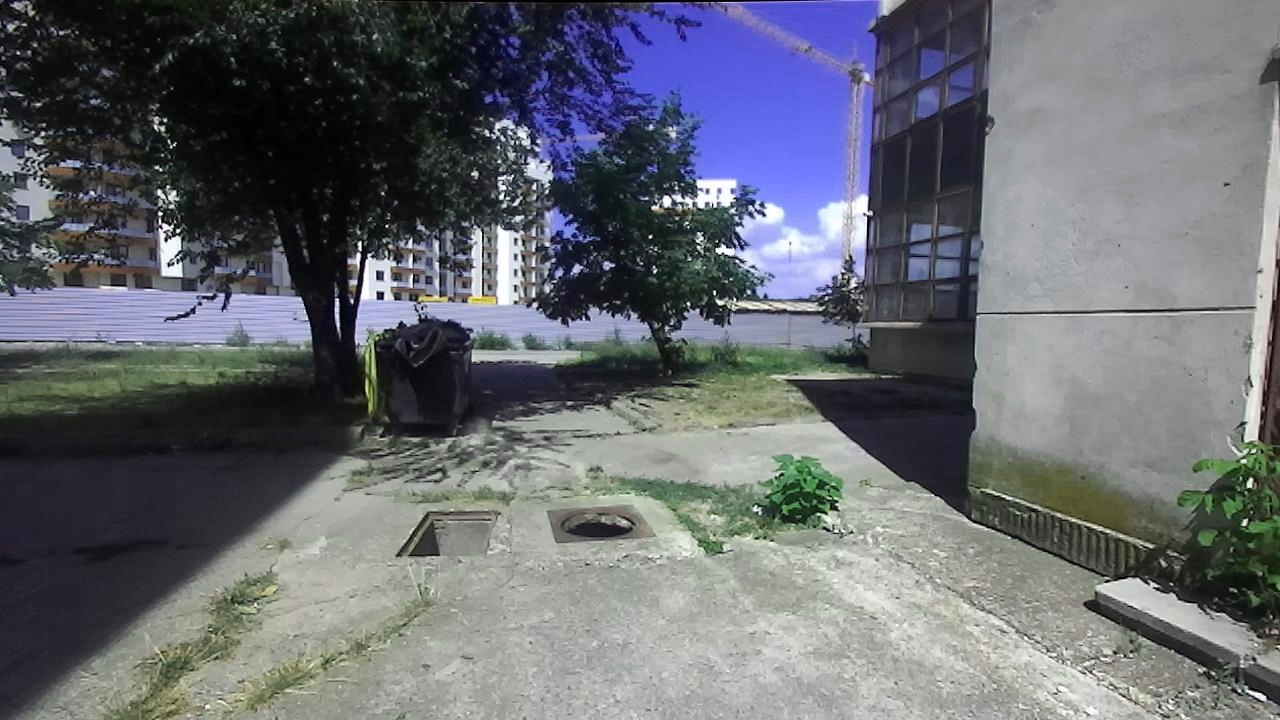drain: (390, 505, 502, 560), (553, 507, 640, 539)
